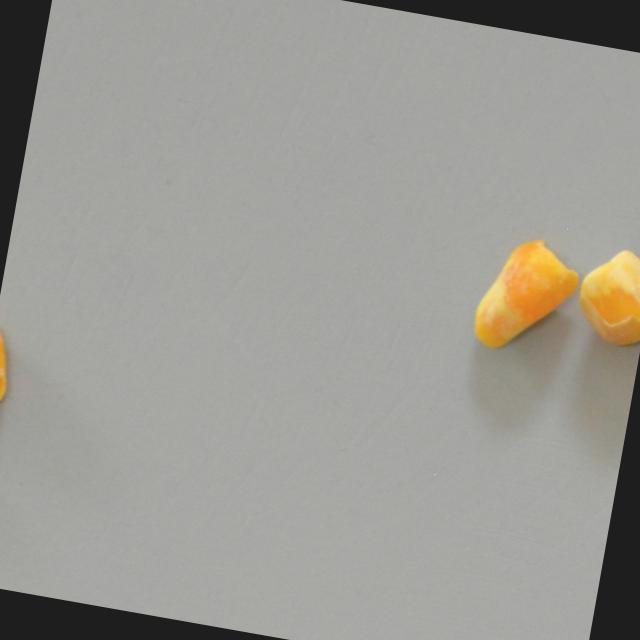pelicula: (467, 230, 582, 363), (569, 241, 640, 349), (0, 320, 19, 415)
